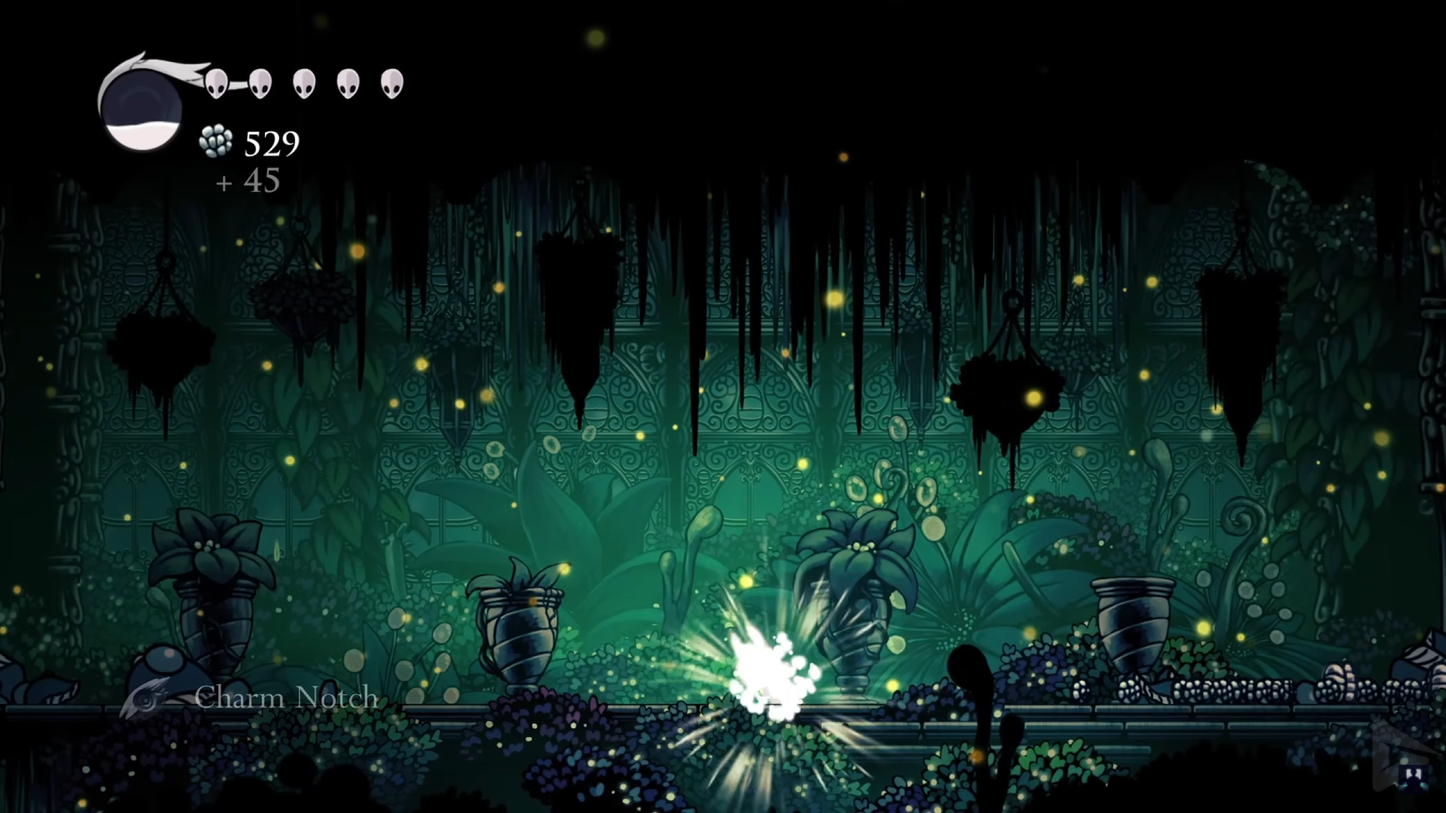HK: (723, 620, 811, 706)
